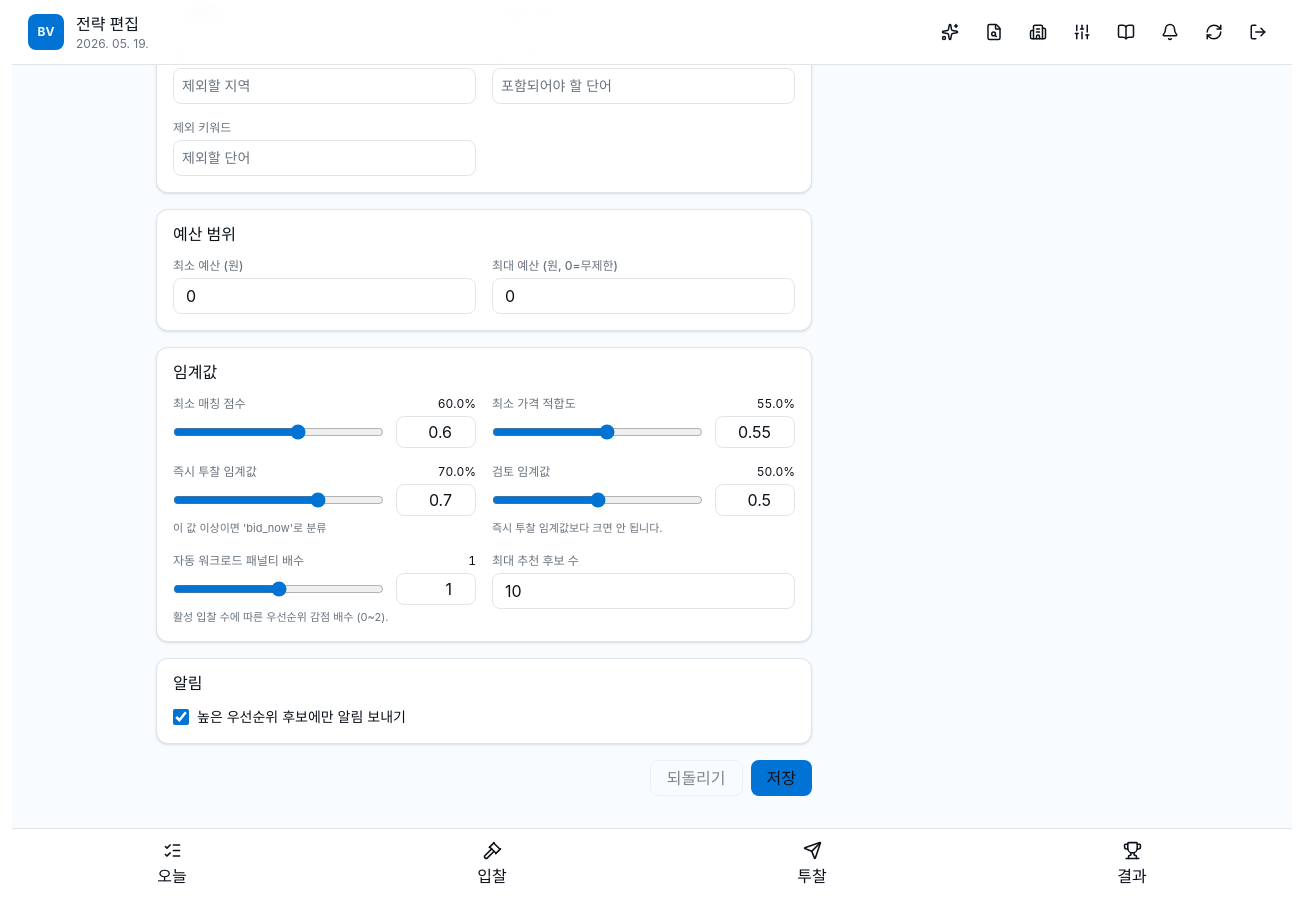
Test: StrategyEditor › 저장 시 review_threshold > bid_now_threshold이면 클라이언트 검증으로 차단
(page scrolled)
Replace the text in the number field named "검토 임계값" with "0.9": (755, 500) [715,484,795,516]
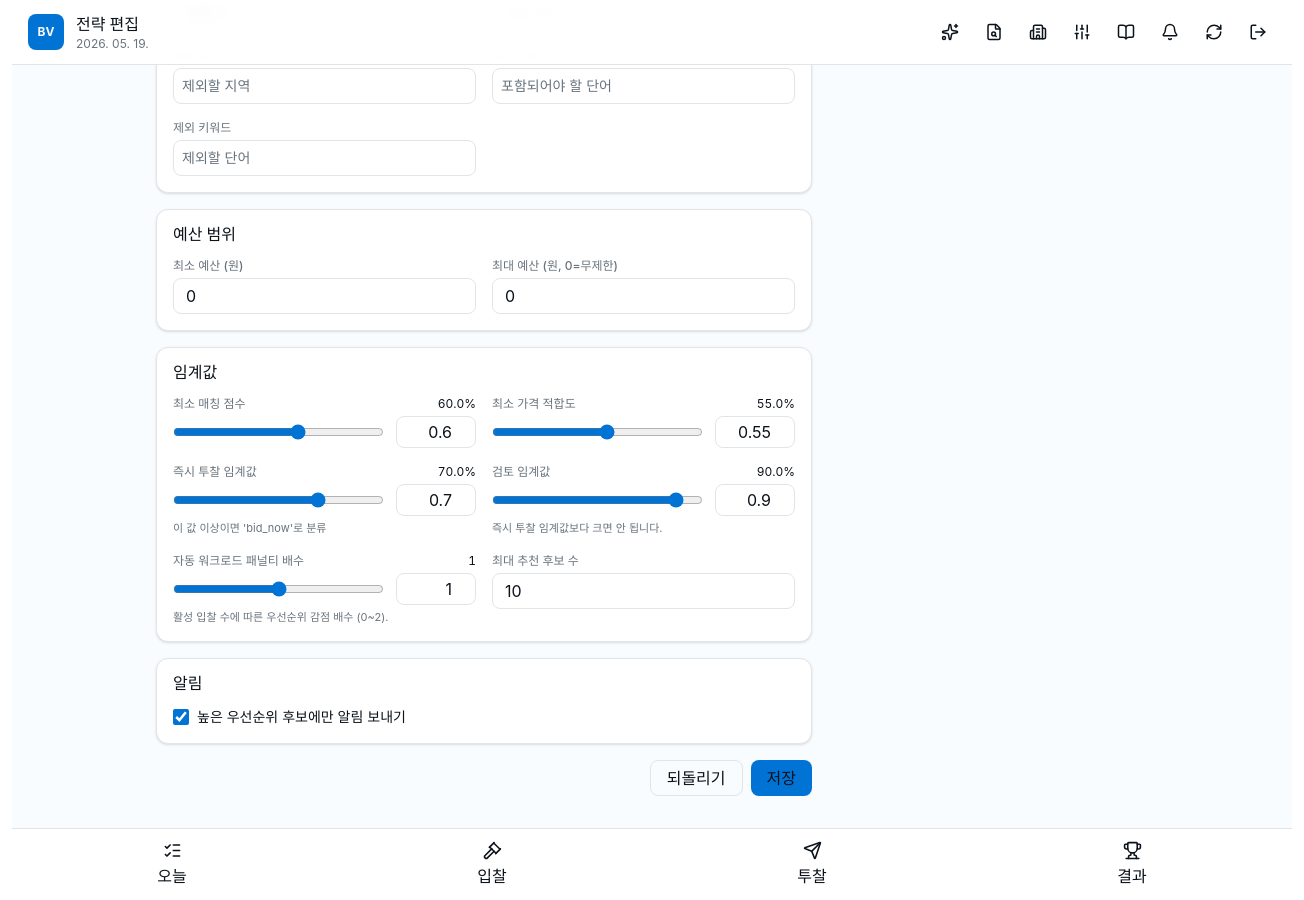
Click the button "저장": (781, 778) [750,760,812,796]
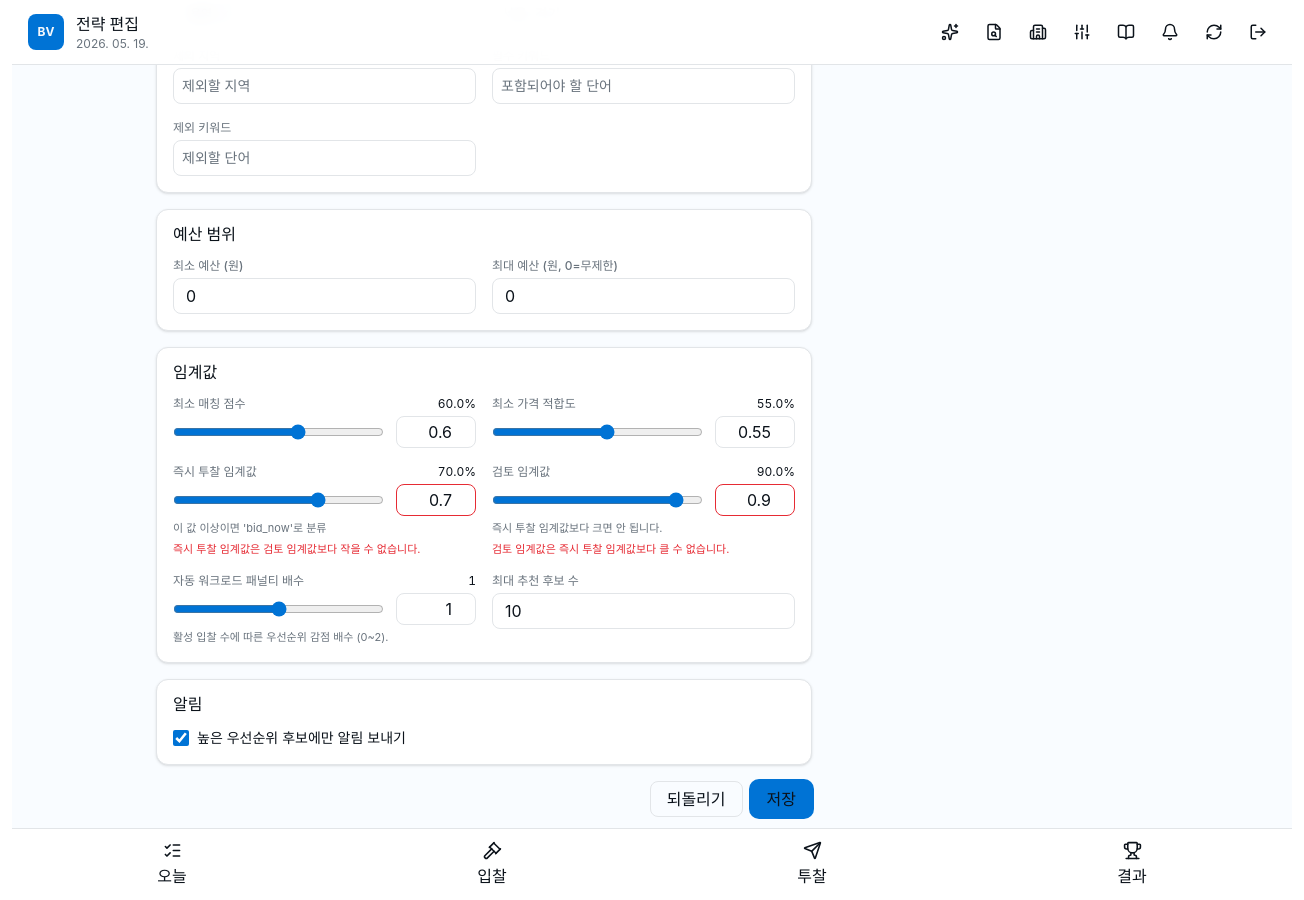
Expected: the text "검토 임계값은 즉시 투찰 임계값보다 클 수 없습니다." is shown, [492,542,729,556]
